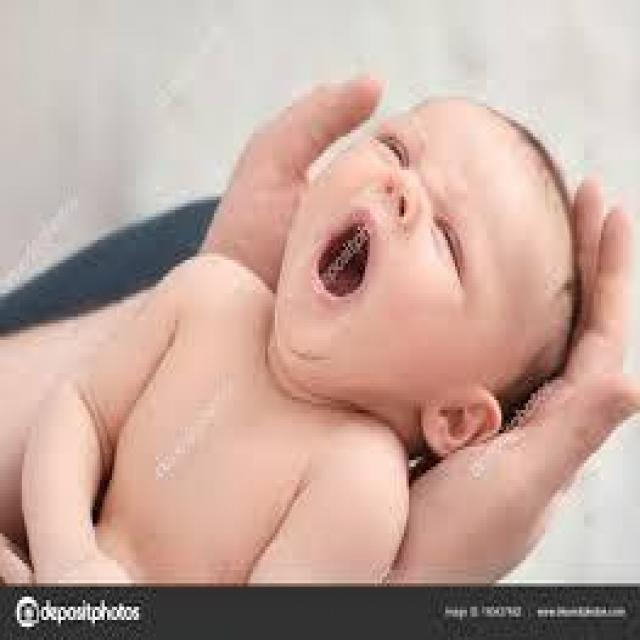child: (24, 90, 576, 584)
